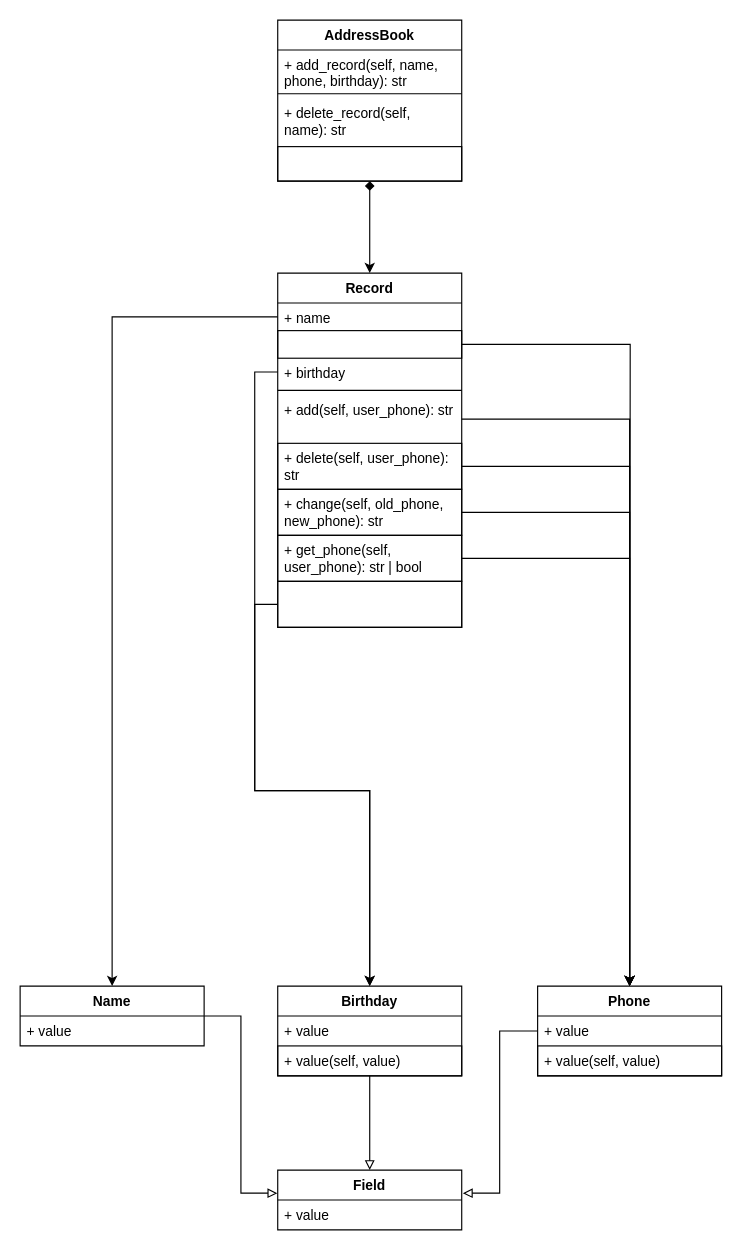
This 742x1254 diagram has some shape labels left out. Each missing label, with the centre of its shape:
+ days_to_birthday(self): str: the point at 369,603
+ phone: the point at 369,343
search(self, arguments): str: the point at 369,163
